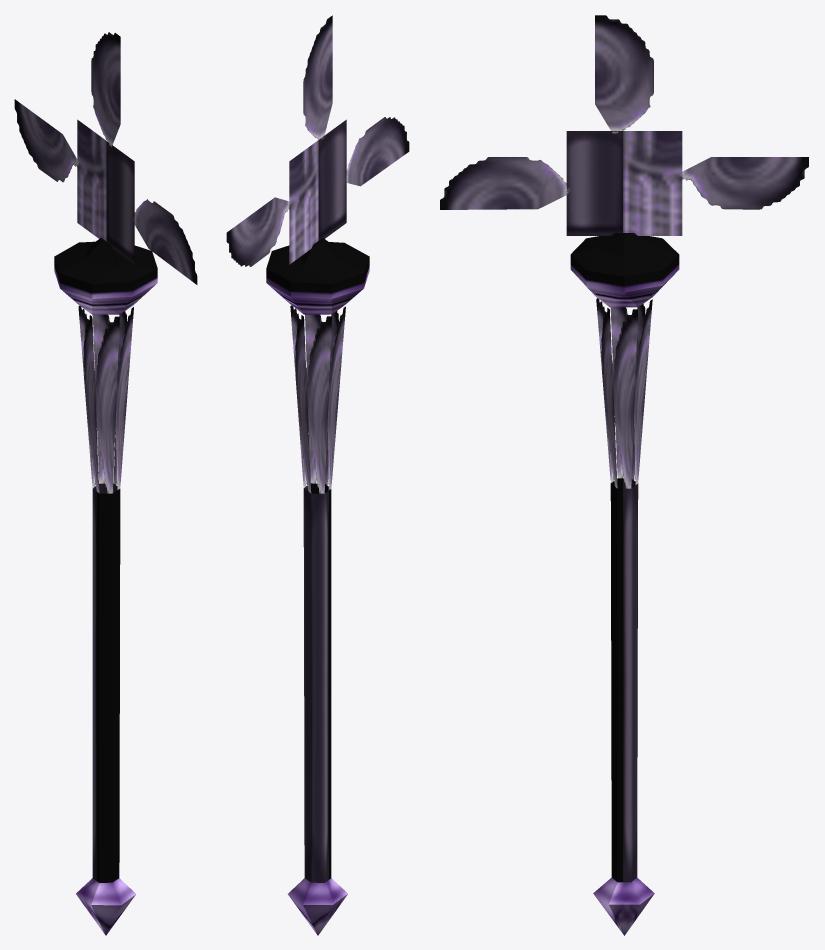
File: wavemaster04_6.obj
The picture shows the model from 3 angles, left to right: view 1: azimuth 30°, elevation 25°; view 2: azimuth 150°, elevation 25°; view 3: azimuth 270°, elevation 25°; orthographic projection.
Visible parts, largest first — view 1: wavemaster04_6; view 2: wavemaster04_6; view 3: wavemaster04_6.
Boxes of the visible parts, x1,y1,x2,y2 form: wavemaster04_6: (14,32,197,935); wavemaster04_6: (226,15,409,935); wavemaster04_6: (440,15,808,935).
Size of the model in its own units: 0.1375 by 1.3 by 0.475.
